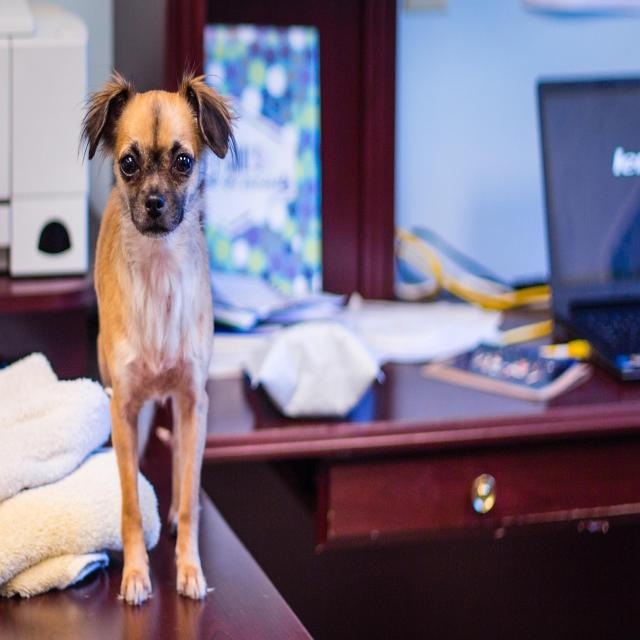dog: (76, 79, 242, 607)
